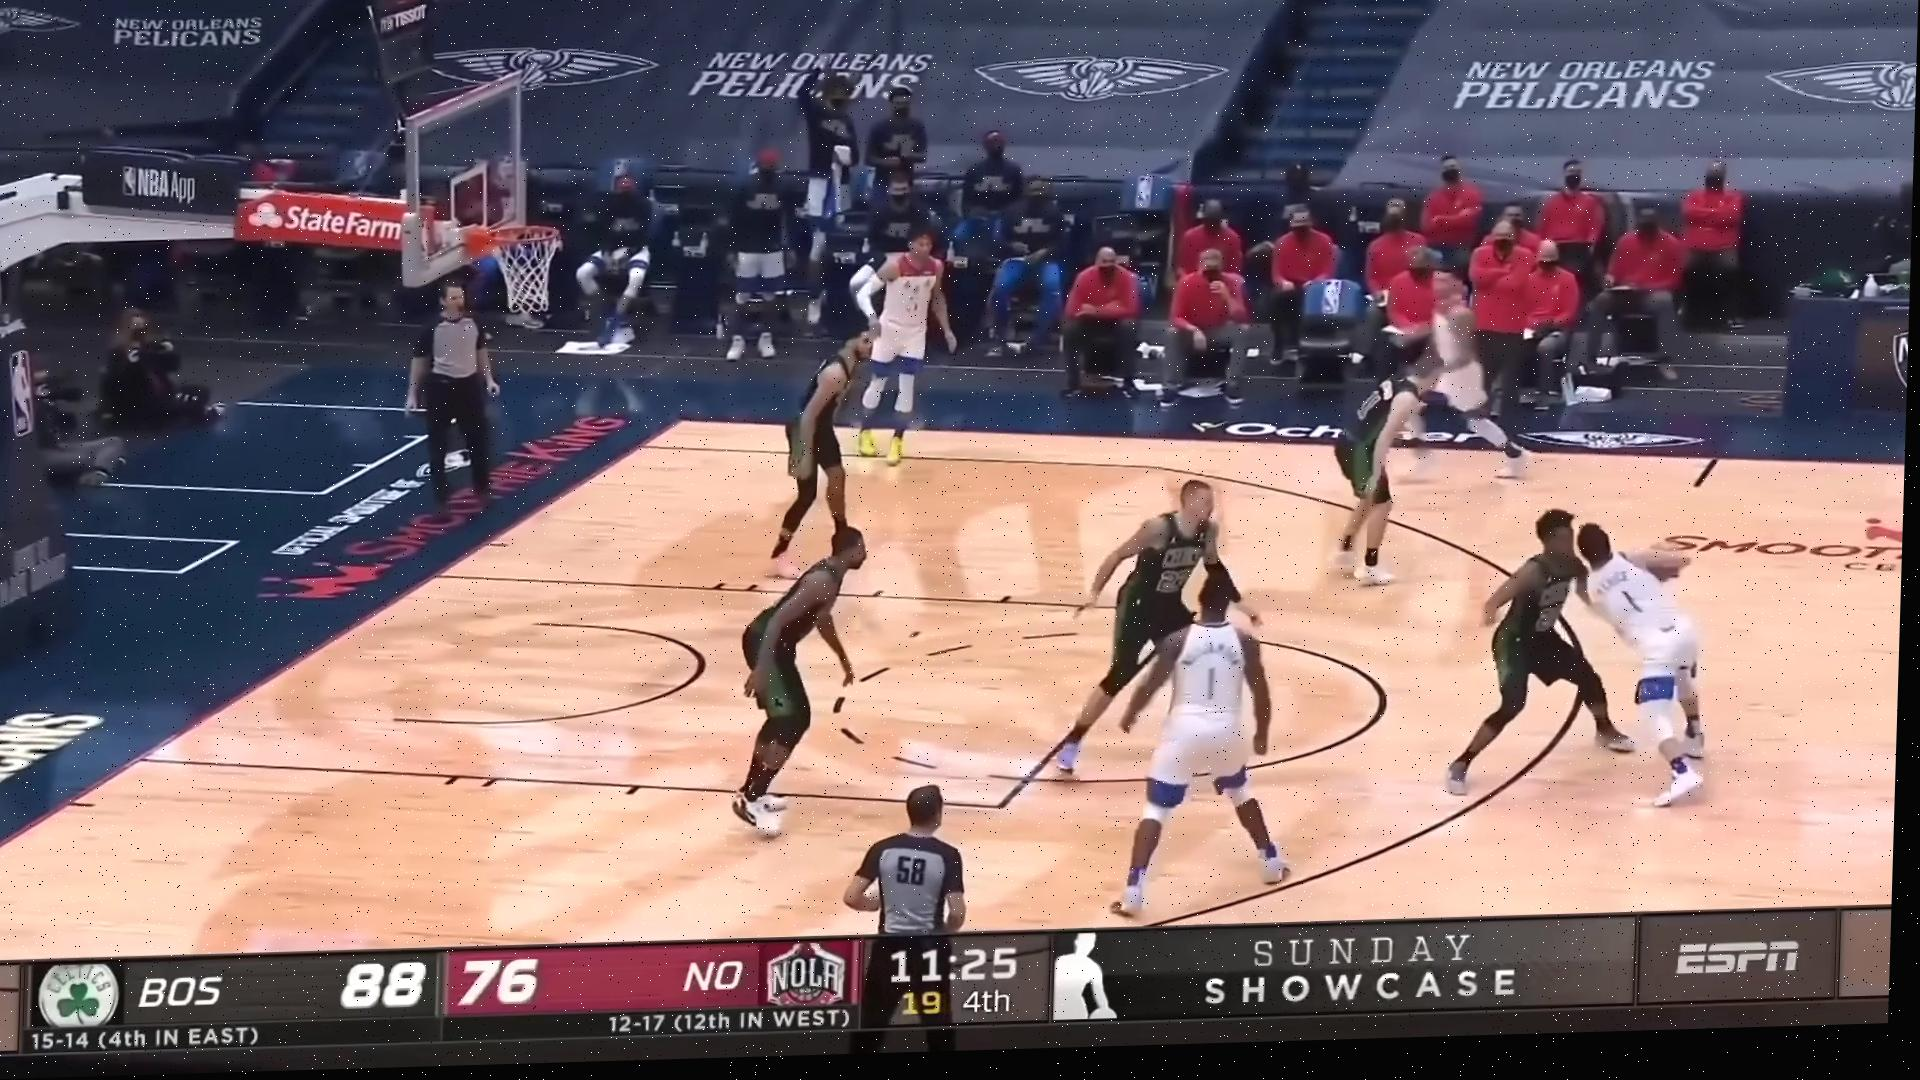no_foul: (1427, 491, 1758, 830)
